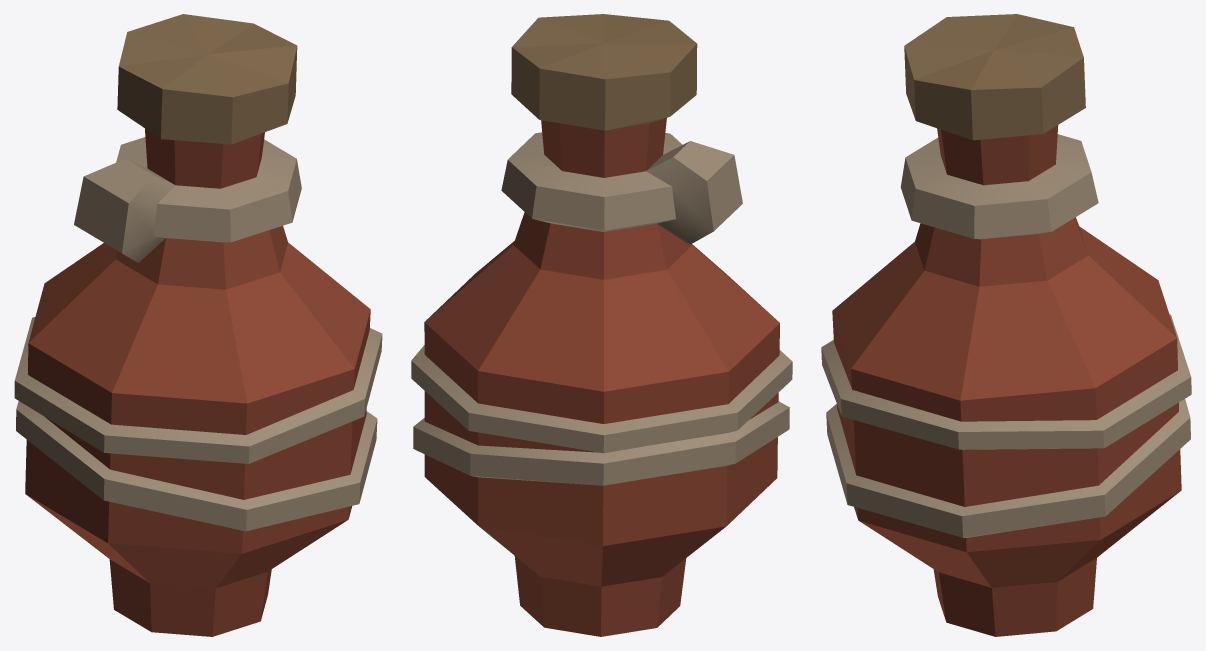
The model's file is SM_Item_Potion_Attachment_01.glb.
3 views of the same model, side by side, from view 1: azimuth 30°, elevation 25°; view 2: azimuth 150°, elevation 25°; view 3: azimuth 270°, elevation 25° (orthographic).
Visible parts, largest first — view 1: SM_Item_Potion_Attachment_01; view 2: SM_Item_Potion_Attachment_01; view 3: SM_Item_Potion_Attachment_01.
Part boxes in pixels (<box>): SM_Item_Potion_Attachment_01: <box>14,14,382,636</box>; SM_Item_Potion_Attachment_01: <box>411,14,792,636</box>; SM_Item_Potion_Attachment_01: <box>821,14,1191,636</box>.
Size of the model in its own units: 0.00115 by 0.00192 by 0.00115.
